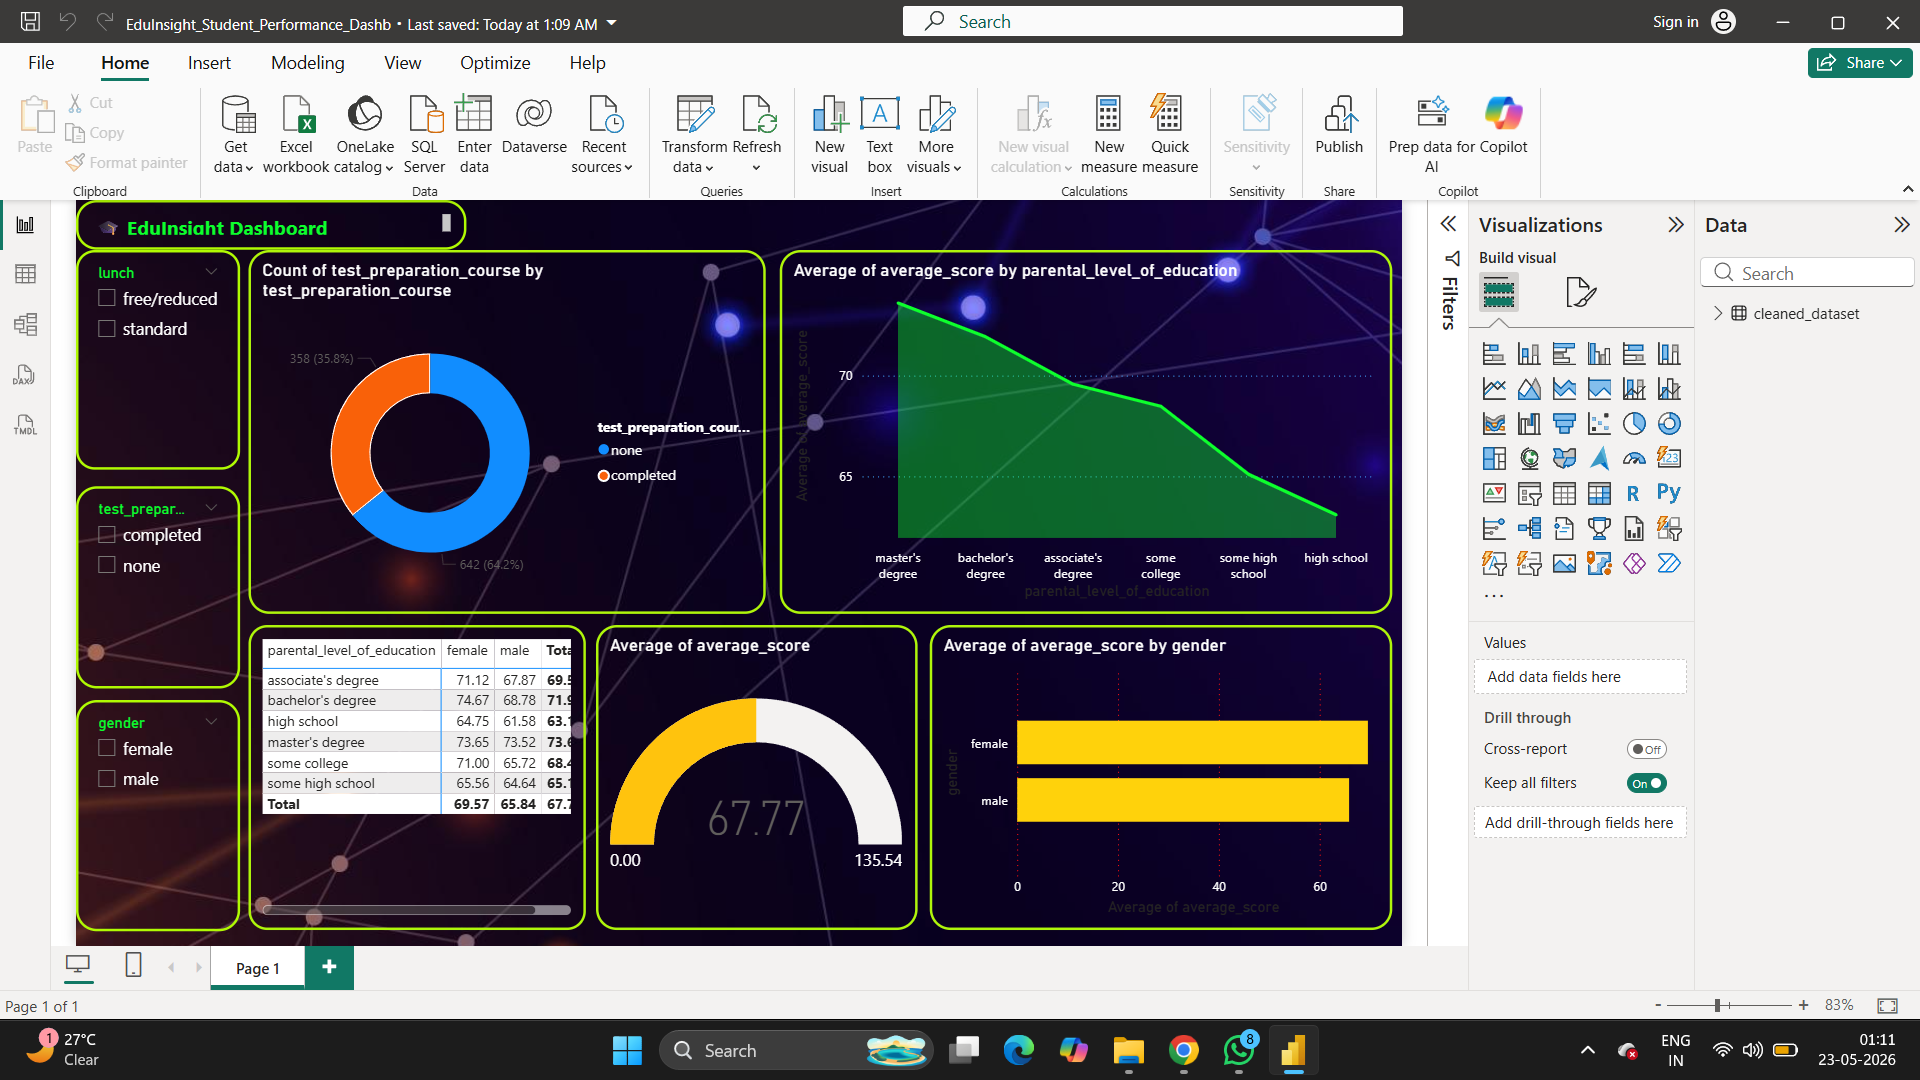

This screenshot's page, from the dashboard's own definition file:
{"tool":"powerbi","page":{"name":"Page 1","canvas":[1280,720],"ordinal":0},"visuals":[{"type":"gauge","fields":{"Y":["Avg(cleaned_dataset.average_score)"]},"box":[501.9,410.2,310.1,294.4],"z":0},{"type":"barChart","fields":{"Category":["cleaned_dataset.gender"],"Y":["Avg(cleaned_dataset.average_score)"]},"box":[824,410.2,446.4,294.4],"z":1000},{"type":"donutChart","fields":{"Category":["cleaned_dataset.test_preparation_course"],"Y":["CountNonNull(cleaned_dataset.test_preparation_course)"]},"box":[166.5,48.3,499.5,351.1],"z":2000},{"type":"areaChart","fields":{"Category":["cleaned_dataset.parental_level_of_education"],"Y":["Avg(cleaned_dataset.average_score)"]},"box":[679.2,48.3,591.2,351.1],"z":3000},{"type":"pivotTable","fields":{"Rows":["cleaned_dataset.parental_level_of_education"],"Columns":["cleaned_dataset.gender"],"Values":["Avg(cleaned_dataset.average_score)"]},"box":[166.5,410.2,325.7,294.4],"z":4000},{"type":"slicer","fields":{"Values":["cleaned_dataset.gender"]},"box":[0,482.6,158,223.2],"z":5000},{"type":"slicer","fields":{"Values":["cleaned_dataset.lunch"]},"box":[0,48.3,158,212.3],"z":6000},{"type":"slicer","fields":{"Values":["cleaned_dataset.test_preparation_course"]},"box":[0,276.3,158,195.4],"z":7000},{"type":"textbox","box":[0,0,376.4,48.3],"z":8000}]}

Visuals, with their boxes on the page's 1280x720 design canvas (x1, y1, x2, y2). These are canvas units, not pixel positions in the 1920x1080 screenshot, which may show the page scaled, cropped or inside an application window:
gauge - Avg(cleaned_dataset.average_score): Rect(502, 410, 812, 705)
barChart - cleaned_dataset.gender x Avg(cleaned_dataset.average_score): Rect(824, 410, 1270, 705)
donutChart - cleaned_dataset.test_preparation_course x CountNonNull(cleaned_dataset.test_preparation_course): Rect(166, 48, 666, 399)
areaChart - cleaned_dataset.parental_level_of_education x Avg(cleaned_dataset.average_score): Rect(679, 48, 1270, 399)
pivotTable - cleaned_dataset.parental_level_of_education x cleaned_dataset.gender: Rect(166, 410, 492, 705)
slicer - cleaned_dataset.gender: Rect(0, 483, 158, 706)
slicer - cleaned_dataset.lunch: Rect(0, 48, 158, 261)
slicer - cleaned_dataset.test_preparation_course: Rect(0, 276, 158, 472)
textbox: Rect(0, 0, 376, 48)
